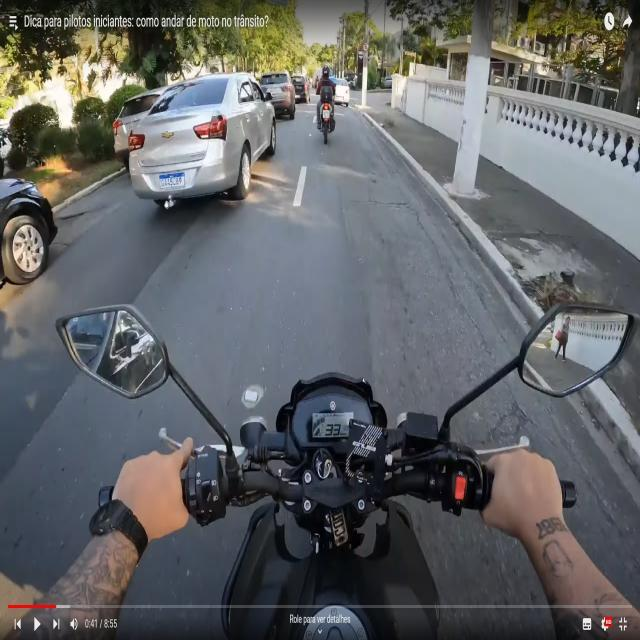Placa_mercosul_carro: (159, 172, 185, 188)
